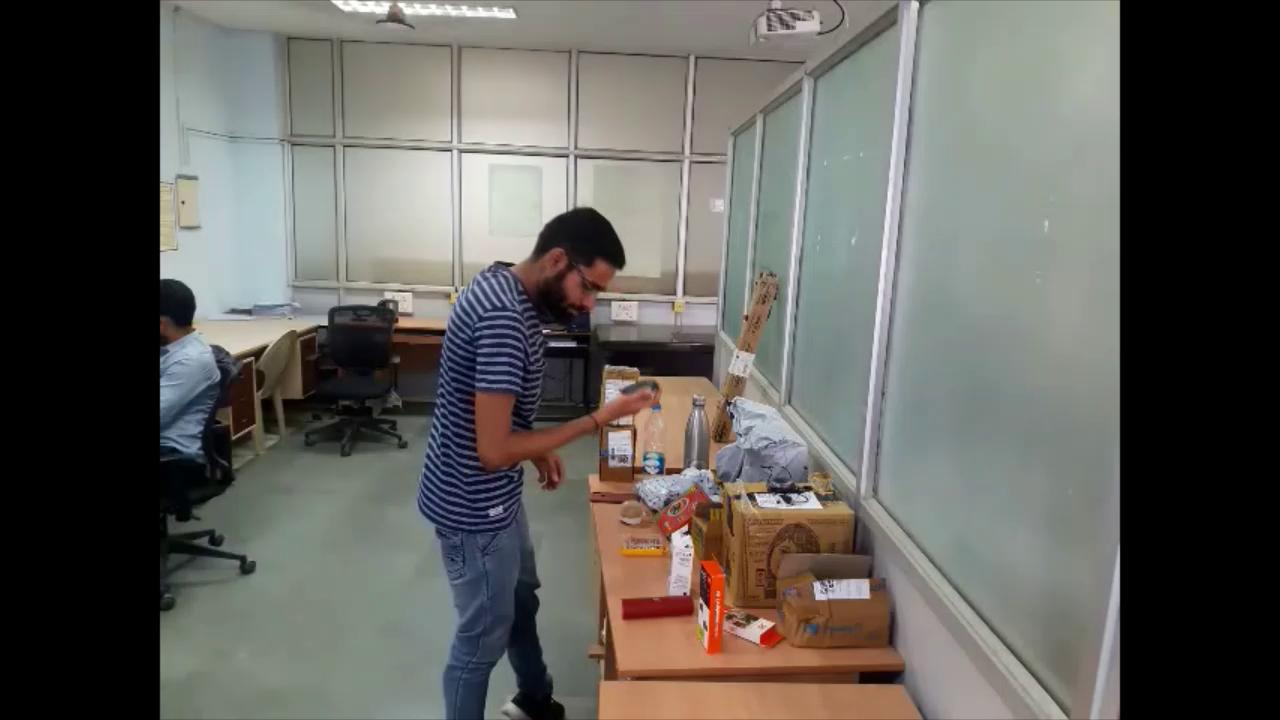Normal: (407, 207, 677, 720)
